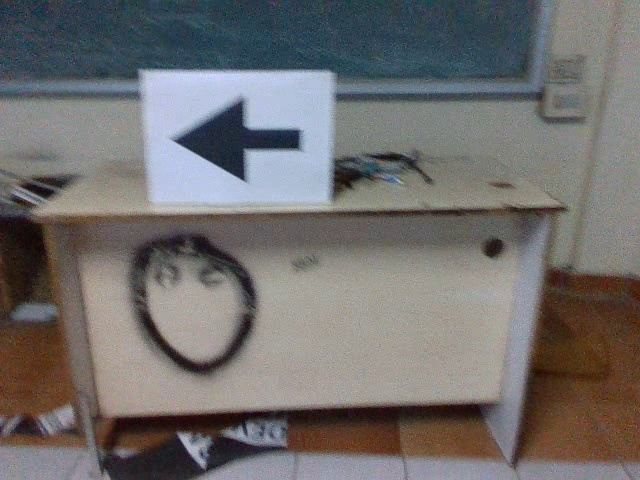Left: (163, 89, 311, 190)
